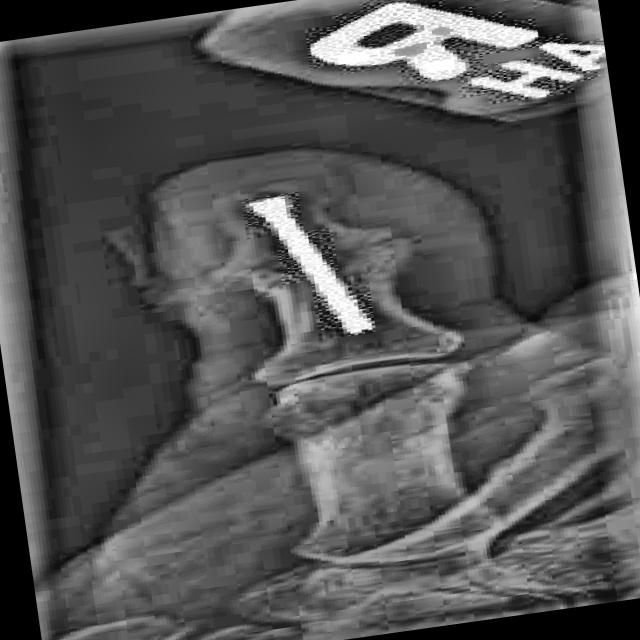fingers positive: (191, 223, 436, 297)
